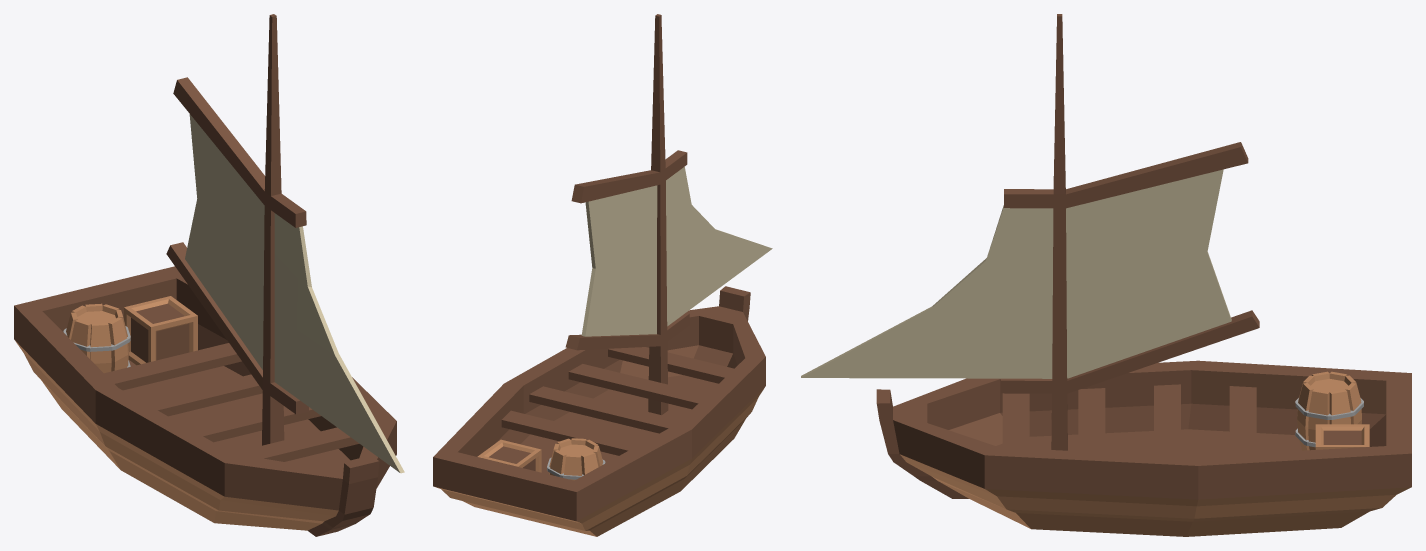
The model's file is Boat.glb.
3 views of the same model, side by side, from view 1: azimuth 30°, elevation 25°; view 2: azimuth 150°, elevation 25°; view 3: azimuth 270°, elevation 25° (orthographic). The views are drawn at different scales.
Parts seen in each view (by area): view 1: Boat, Sail; view 2: Boat, Sail; view 3: Boat, Sail.
Boxes of the visible parts, box(x1,y1,x2,y2) form: Boat: box(14, 266, 396, 536); Sail: box(166, 14, 404, 473); Boat: box(433, 286, 765, 536); Sail: box(565, 14, 772, 415); Boat: box(876, 360, 1411, 536); Sail: box(801, 14, 1259, 450).
Size of the model in its own units: 0.4032 by 0.8547 by 0.989.
